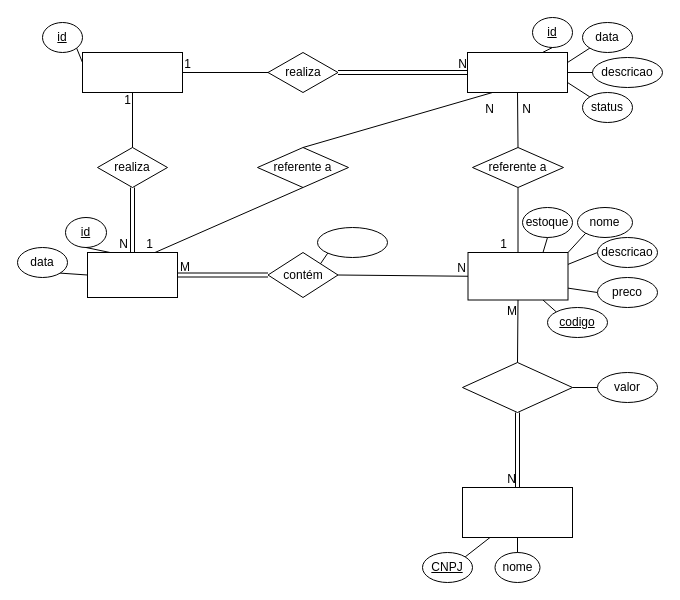
The diagram is 680 pixels wide and 600 high, and some of its shapes have lost their labels. Here are the shapes that lost their labels. From the top down, the centre of each, then its label:
At [132,72]: "Cliente".
At [517,72]: "Chamado".
At [352,242]: "quantidade".
At [132,275]: "Pedido".
At [517,276]: "Produto".
At [517,387]: "é vendido por".
At [517,512]: "Fornecedor".
